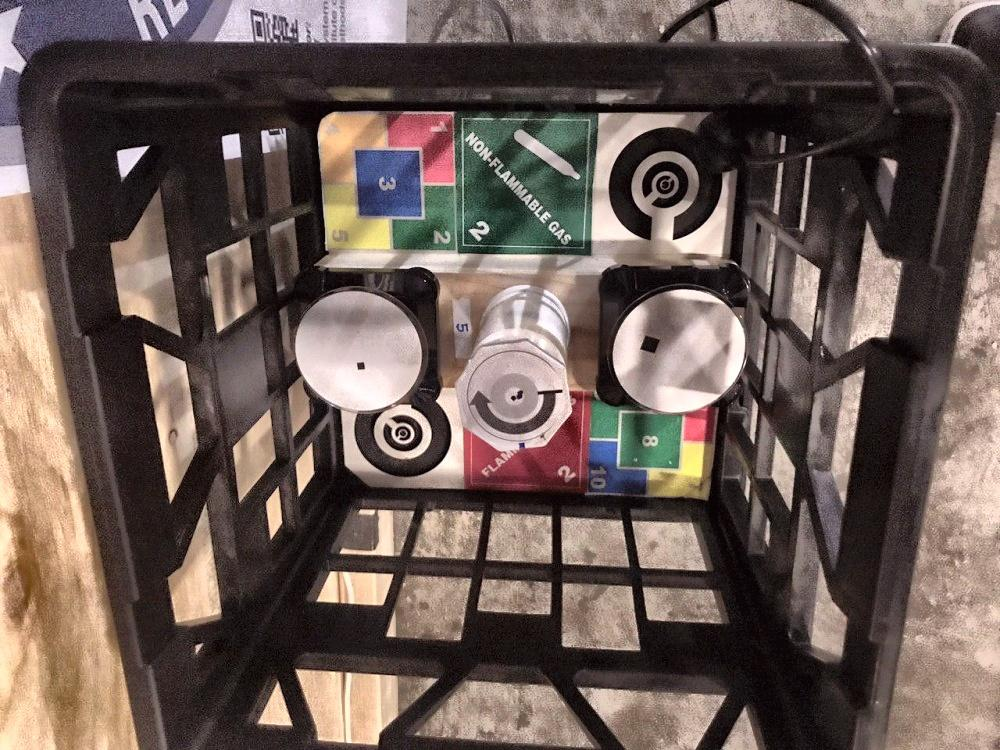flammable: (466, 396, 584, 489)
non-flammable-gas: (458, 114, 590, 252)
